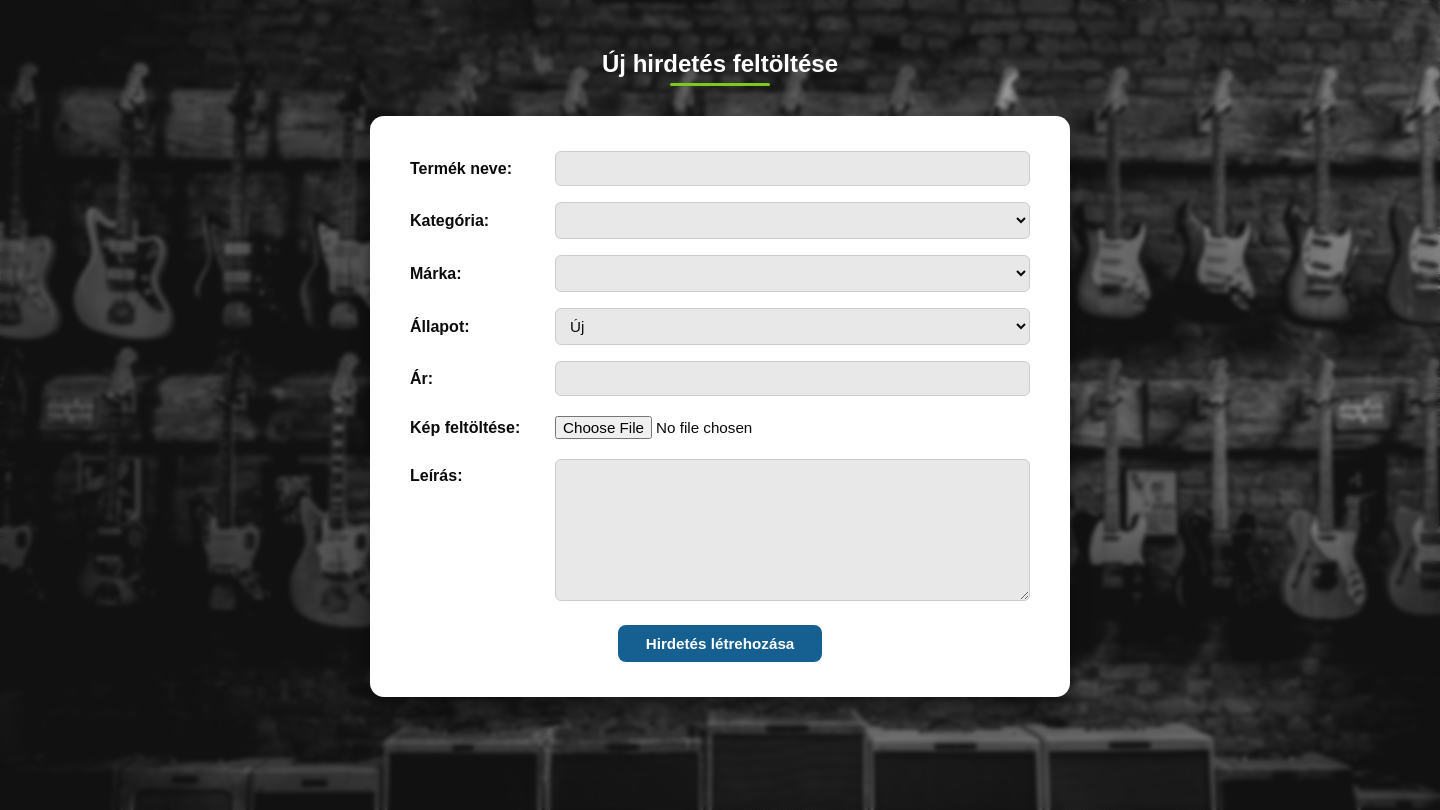
it: page_newAd/NewAd.jsx › validates required fields and blocks submit
Click the button "Hirdetés létrehozása" at (720, 644), box x1=618 y1=625 x2=822 y2=662
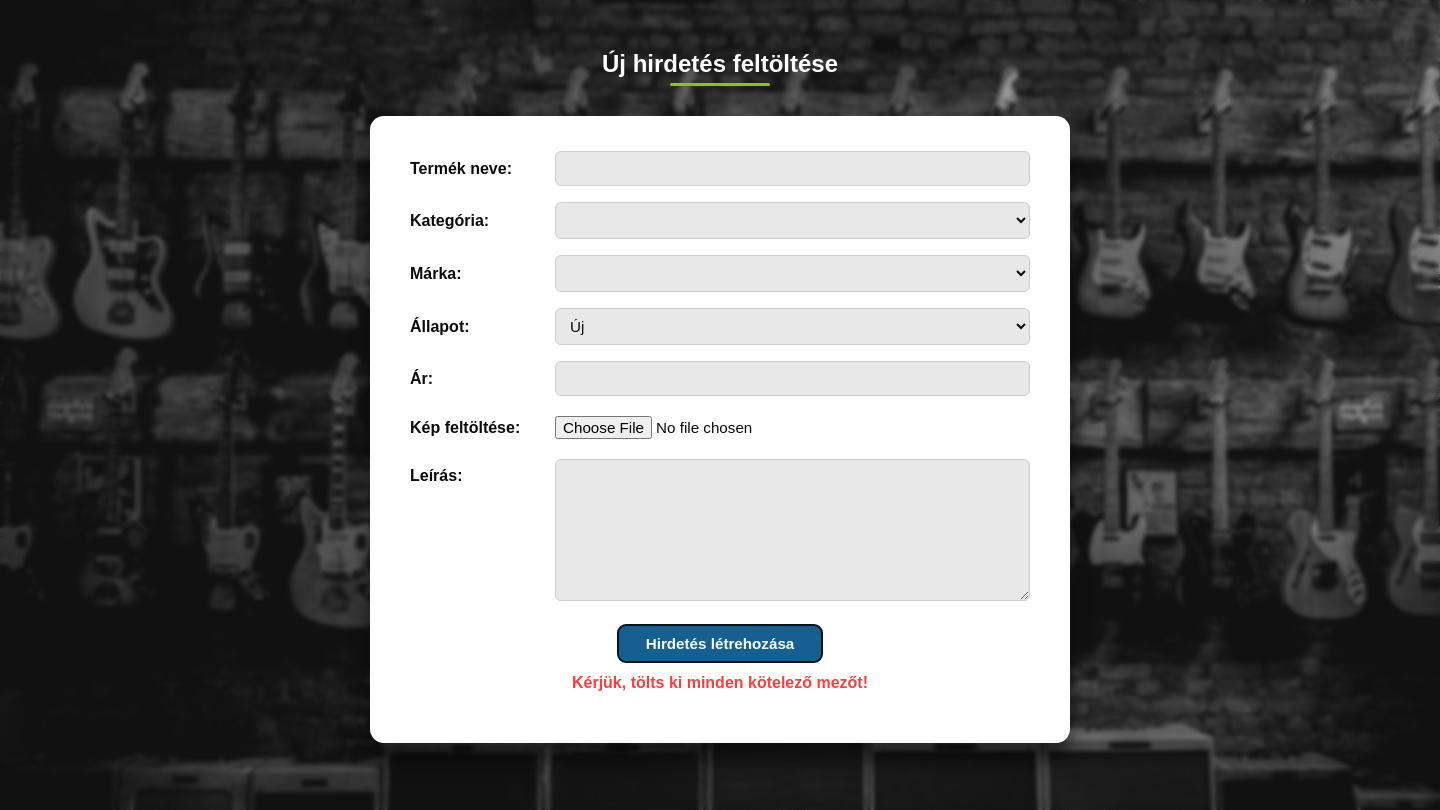
Check: the text "Kérjük, tölts ki minden kötelező mezőt!" is shown, box x1=572 y1=674 x2=868 y2=691
